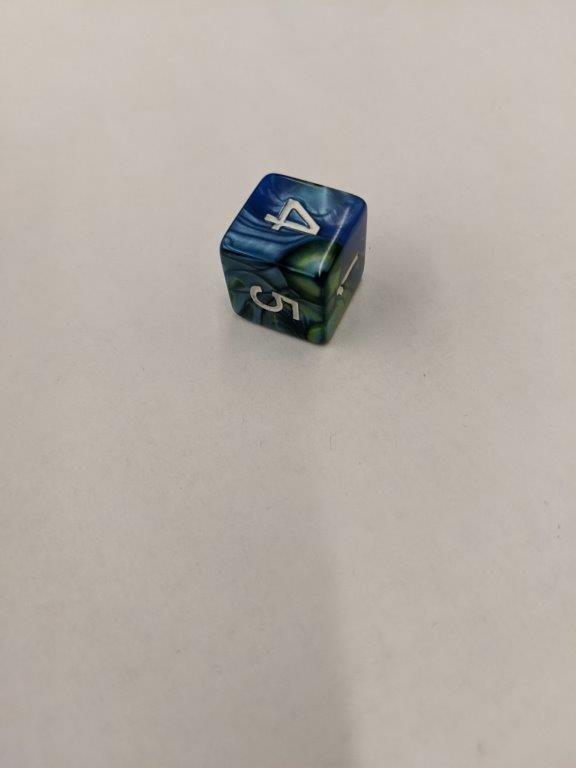d6-4: (219, 173, 368, 344)
